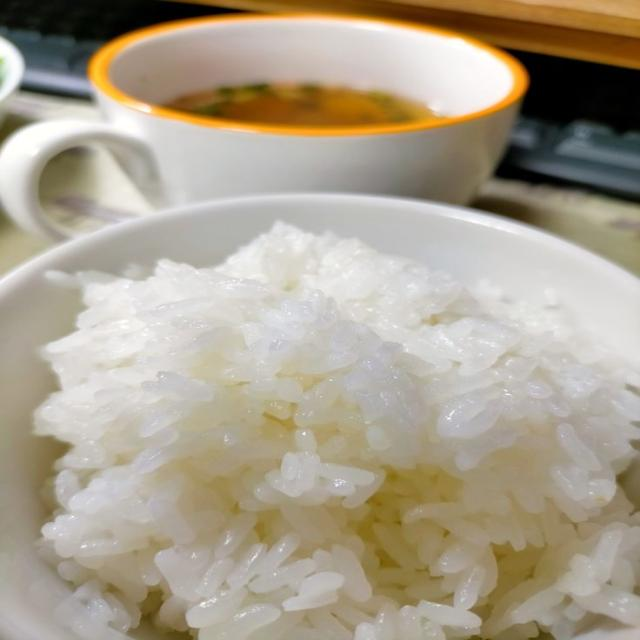rice: (36, 225, 639, 639)
